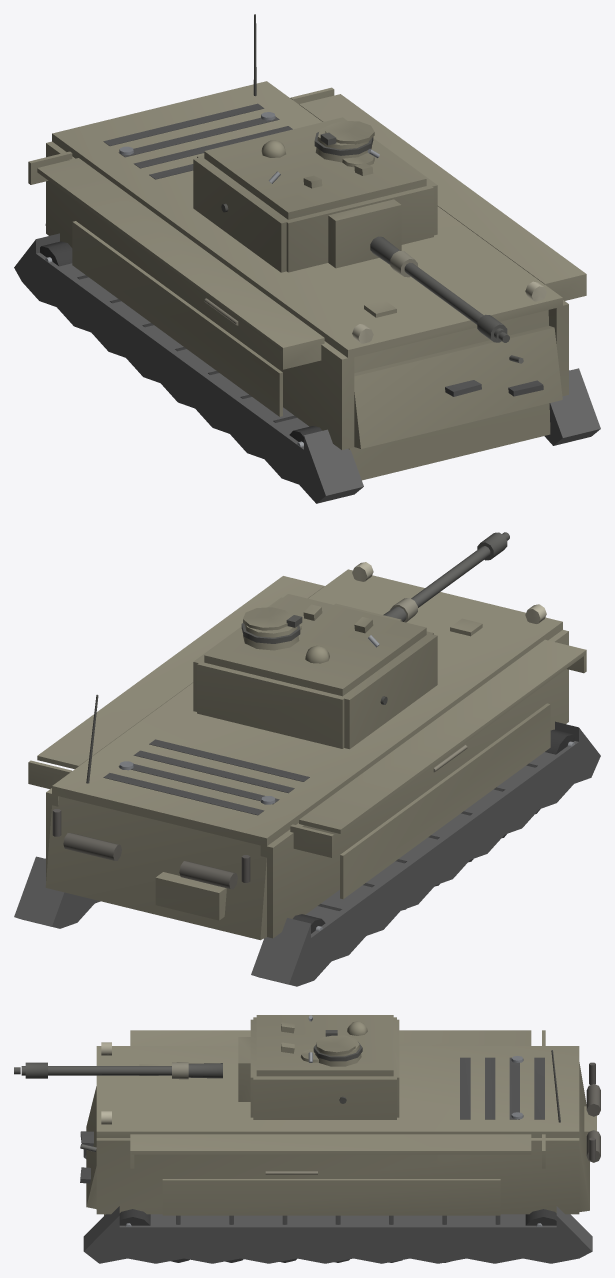
Rendered from churchill7.glb.
The picture shows the model from 3 angles, top to bottom: view 1: azimuth 30°, elevation 25°; view 2: azimuth 150°, elevation 25°; view 3: azimuth 270°, elevation 25°; orthographic projection. The views are drawn at different scales.
Visible parts, largest first — view 1: hullSide, hullTop, tracks, lowerPlate, turretRoof, glacis, turretSide, turretFront, mantlet, barrel; view 2: hullSide, hullTop, tracks, hullRear, turretRoof, turretRear, turretSide, barrel; view 3: hullSide, hullTop, tracks, turretRoof, turretSide, hullRear, barrel, lowerPlate, mantlet, turretFront, turretRear, glacis (+2 smaller).
Boxes of the visible parts, x1,y1,x2,y2 form: hullSide: [28, 87, 586, 449]; hullTop: [52, 81, 562, 358]; tracks: [14, 233, 600, 503]; lowerPlate: [354, 326, 562, 448]; turretRoof: [204, 117, 426, 219]; glacis: [349, 300, 550, 480]; turretSide: [193, 138, 437, 272]; turretFront: [280, 183, 433, 272]; mantlet: [328, 199, 401, 268]; barrel: [370, 236, 509, 342]; hullSide: [28, 562, 586, 938]; hullTop: [52, 569, 562, 846]; tracks: [14, 721, 600, 986]; hullRear: [45, 694, 266, 940]; turretRoof: [204, 594, 426, 696]; turretRear: [197, 659, 348, 748]; turretSide: [193, 597, 437, 749]; barrel: [383, 532, 509, 622]; hullSide: [96, 1030, 579, 1215]; hullTop: [96, 1046, 579, 1137]; tracks: [83, 1149, 592, 1263]; turretRoof: [256, 1015, 393, 1076]; turretSide: [253, 1017, 396, 1119]; hullRear: [551, 1050, 600, 1211]; barrel: [14, 1062, 222, 1079]; lowerPlate: [86, 1086, 96, 1209]; mantlet: [238, 1037, 250, 1101]; turretFront: [250, 1019, 263, 1117]; turretRear: [392, 1019, 399, 1117]; glacis: [80, 1064, 158, 1215].
Size of the model in its own units: 4.38 by 3.25 by 9.
